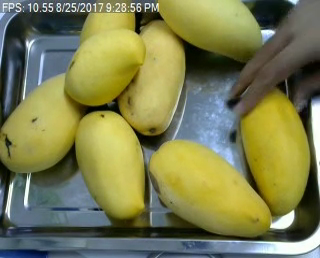Mango: (148, 138, 270, 238), (240, 81, 311, 214), (0, 71, 90, 173), (116, 19, 186, 136), (73, 111, 146, 220), (157, 0, 264, 63), (64, 28, 147, 105), (81, 1, 135, 49)
